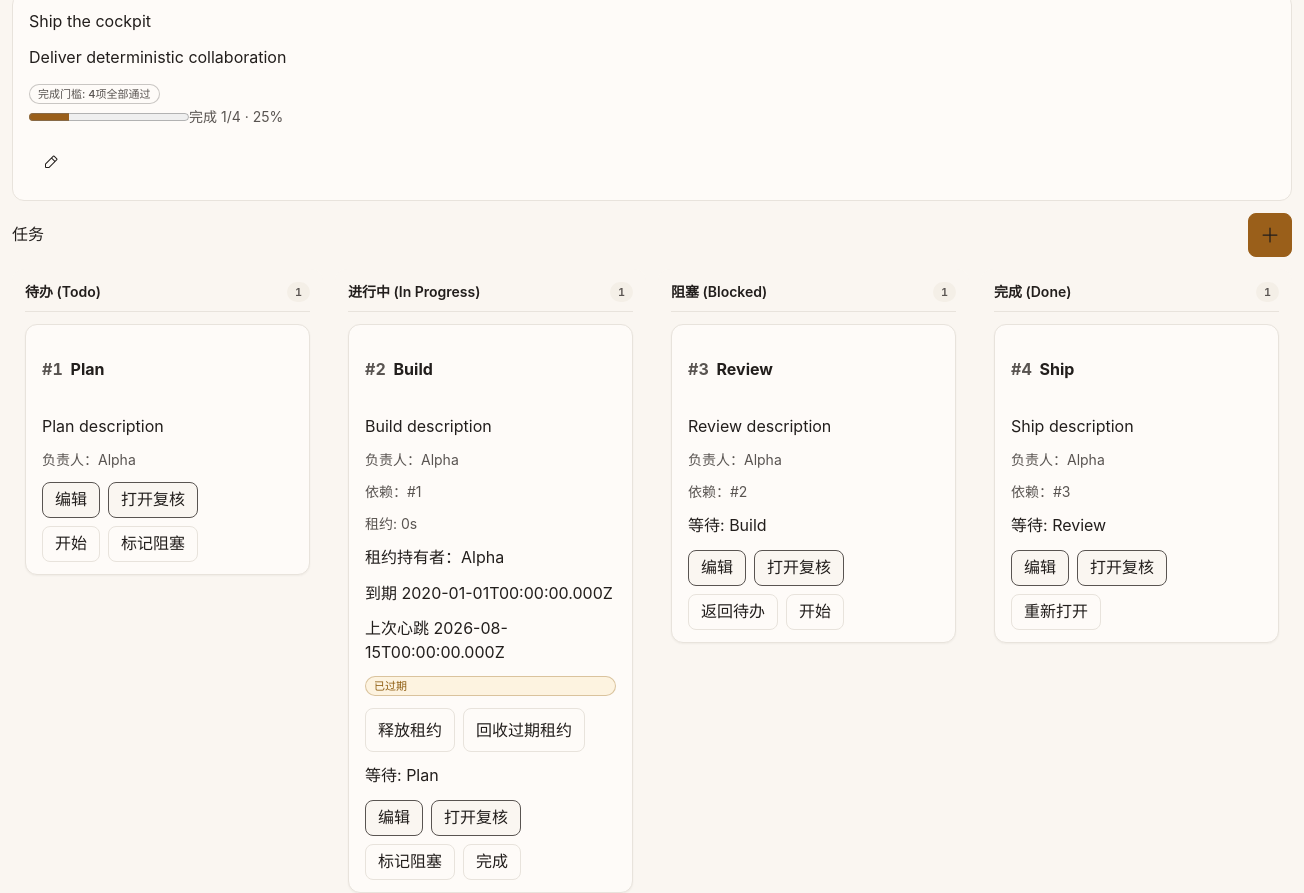
mission board work-item lease › shows an expired badge, enables reclaim, and posts release
Expected: the heading "#2 Build" is shown, [365,358,433,381]
Expected: the text "已过期" is shown, [365,676,616,696]
Click the button "释放租约". click: (410,730)
box: [365,708,455,752]
(page scrolled)
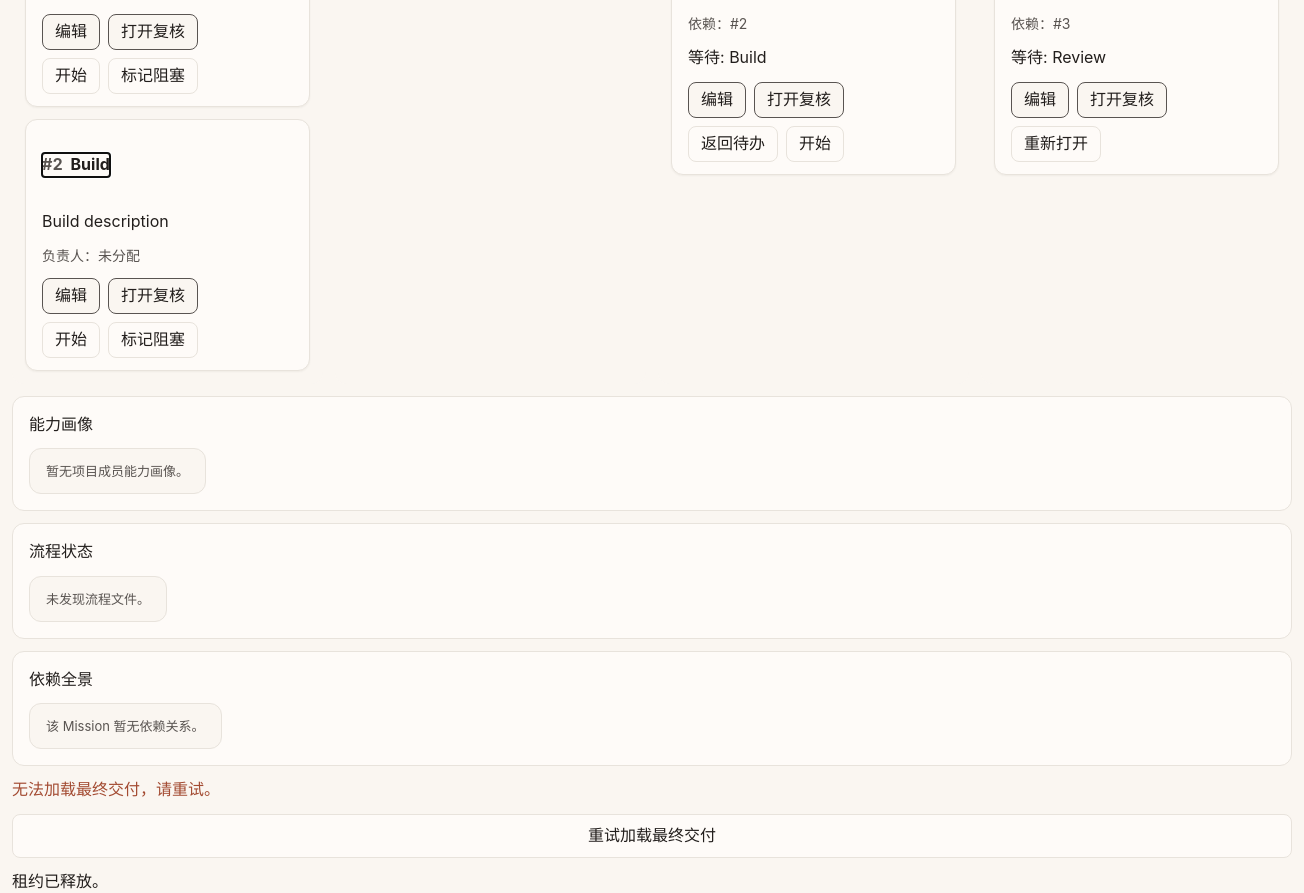
Expected: the message named "保存结果" reads "租约已释放。", [12,871,108,891]
